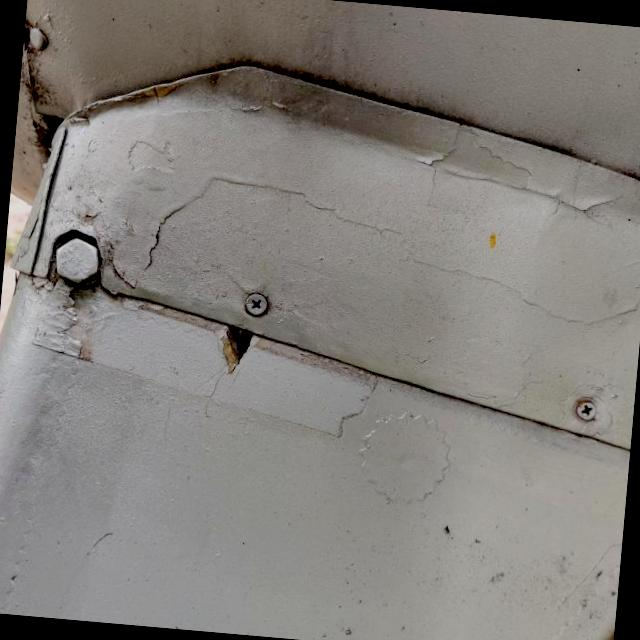crack: (192, 306, 274, 394)
